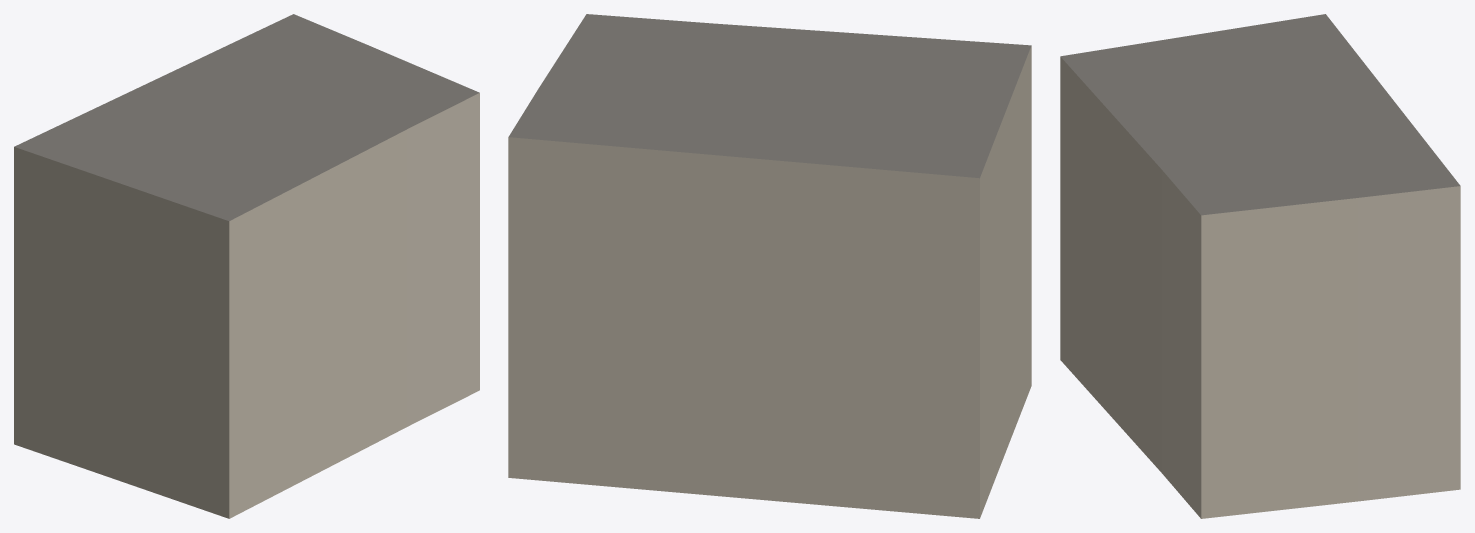
3 renders of one model, left to right at view 1: azimuth 30°, elevation 25°; view 2: azimuth 150°, elevation 25°; view 3: azimuth 270°, elevation 25°, orthographic. The views are drawn at different scales.
Visible parts, largest first — view 1: HP-w1198563495; view 2: HP-w1198563495; view 3: HP-w1198563495.
Boxes of the visible parts, left/top/right/bottom form: HP-w1198563495: left=14, top=14, right=479, bottom=518; HP-w1198563495: left=508, top=14, right=1031, bottom=518; HP-w1198563495: left=1060, top=14, right=1460, bottom=518.
Bounding box in the file's own units: 25.61 × 18 × 21.52.
